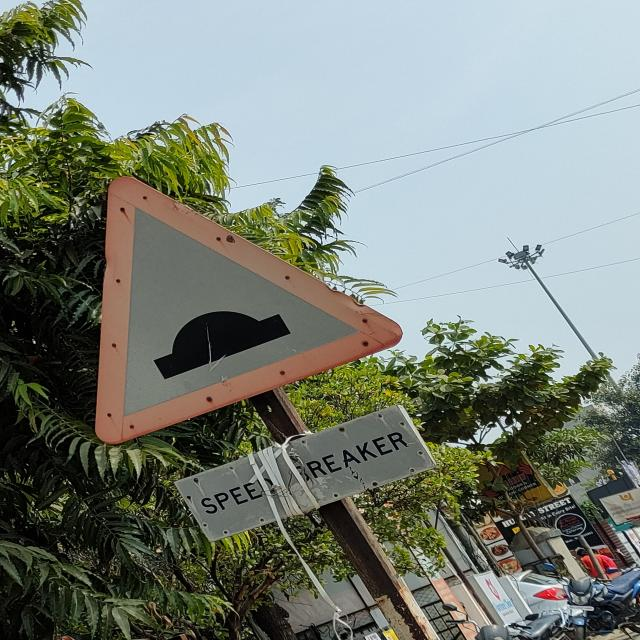HUMP_OR_ROUGH_ROAD: (90, 176, 401, 438)
